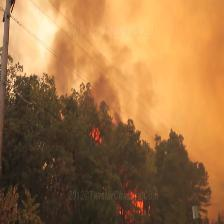fire: (70, 119, 174, 224)
smoke: (19, 0, 224, 121)
